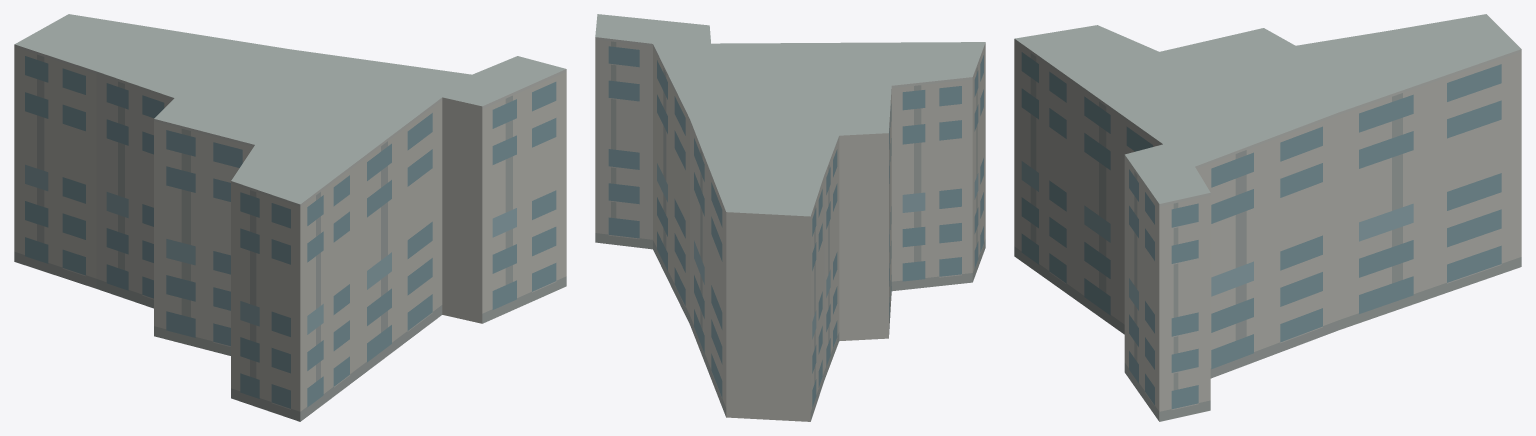
File: survey-upis-32494872.glb
3 renders of one model, left to right at view 1: azimuth 30°, elevation 25°; view 2: azimuth 150°, elevation 25°; view 3: azimuth 270°, elevation 25°, orthographic. The views are drawn at different scales.
Visible parts, largest first — view 1: survey-upis-32494872.tmp; view 2: survey-upis-32494872.tmp; view 3: survey-upis-32494872.tmp.
Boxes of the visible parts, x1,y1,x2,y2 form: survey-upis-32494872.tmp: [14, 14, 566, 421]; survey-upis-32494872.tmp: [595, 14, 985, 421]; survey-upis-32494872.tmp: [1014, 14, 1521, 421].
Size of the model in its own units: 37.07 by 19.8 by 41.78.
